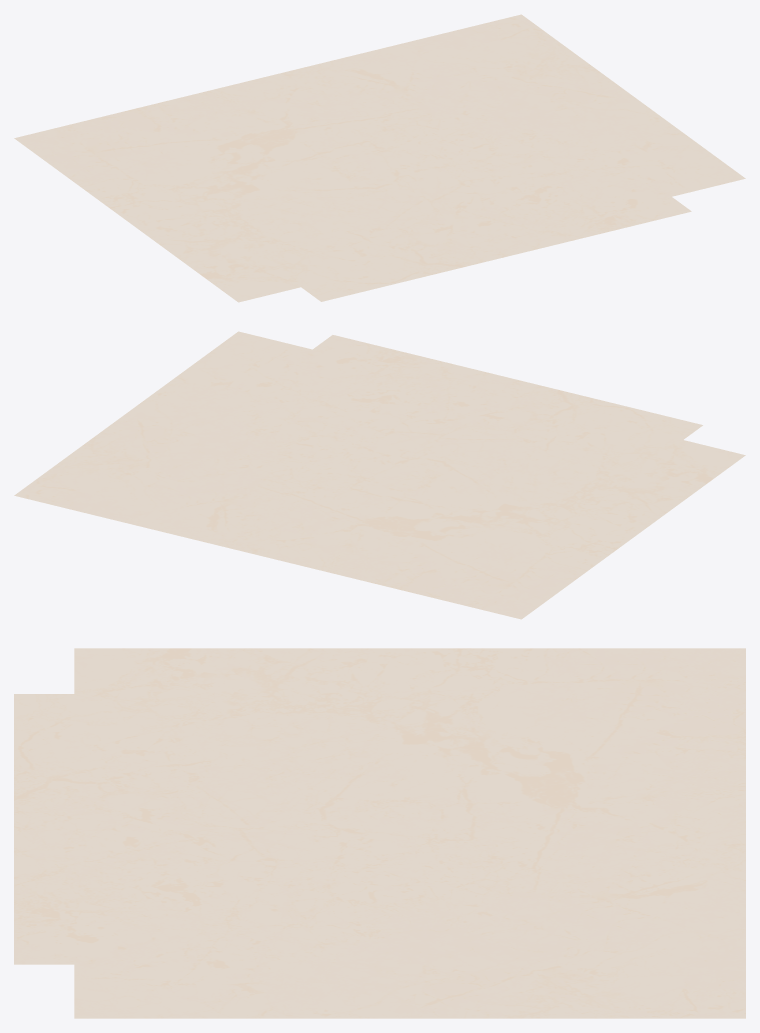
File: Floor.fbx
3 views of the same model, one above another, from view 1: azimuth 30°, elevation 25°; view 2: azimuth 150°, elevation 25°; view 3: azimuth 270°, elevation 25° (orthographic). The views are drawn at different scales.
Visible parts, largest first — view 1: Floor_lp; view 2: Floor_lp; view 3: Floor_lp.
Part boxes in pixels (left/top/right/bottom): Floor_lp: left=14, top=14, right=745, bottom=302; Floor_lp: left=14, top=331, right=745, bottom=619; Floor_lp: left=14, top=648, right=745, bottom=1018.
Bounding box in the file's own units: 694 × 0 × 579.
1 material, 1 textured.
